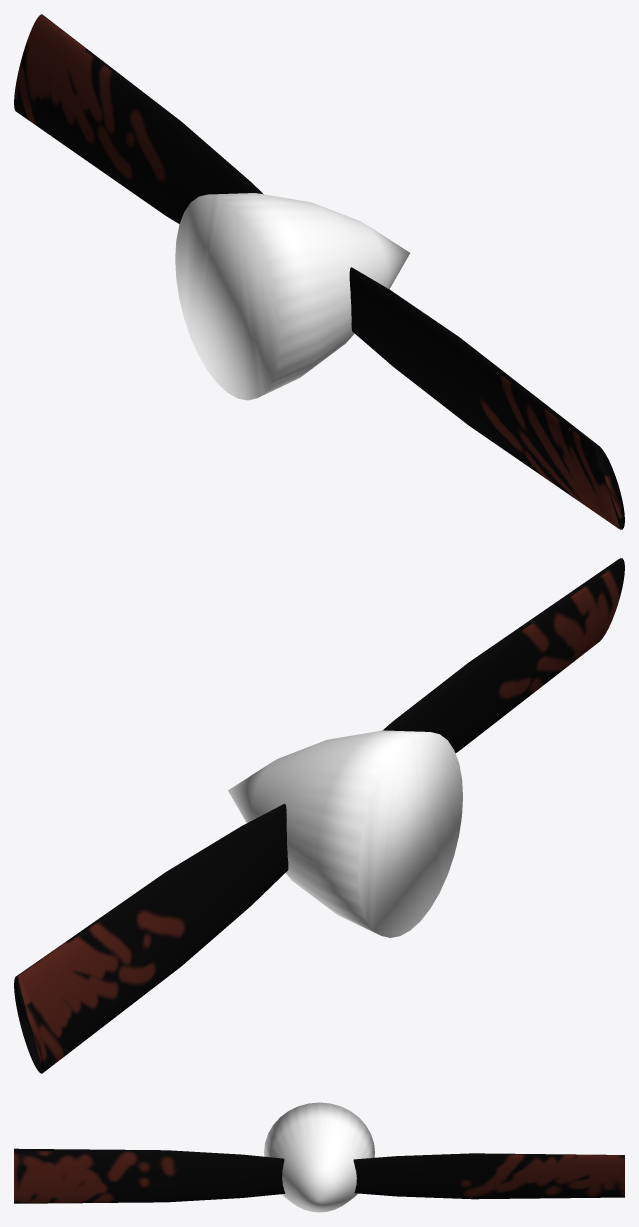
The model's file is propeller.glb.
The picture shows the model from 3 angles, top to bottom: view 1: azimuth 30°, elevation 25°; view 2: azimuth 150°, elevation 25°; view 3: azimuth 270°, elevation 25°; orthographic projection. The views are drawn at different scales.
Visible parts, largest first — view 1: Cylinder, Cone; view 2: Cylinder, Cone; view 3: Cylinder, Cone.
Boxes of the visible parts, x1=… form: Cylinder: x1=14, y1=14, x2=624, y2=529; Cone: x1=175, y1=193, x2=409, y2=400; Cylinder: x1=14, y1=558, x2=624, y2=1073; Cone: x1=228, y1=730, x2=462, y2=937; Cylinder: x1=14, y1=1148, x2=624, y2=1203; Cone: x1=264, y1=1102, x2=374, y2=1212.
Size of the model in its own units: 0.4 by 0.4 by 2.2.
Materials: 2 (1 with a texture image).
